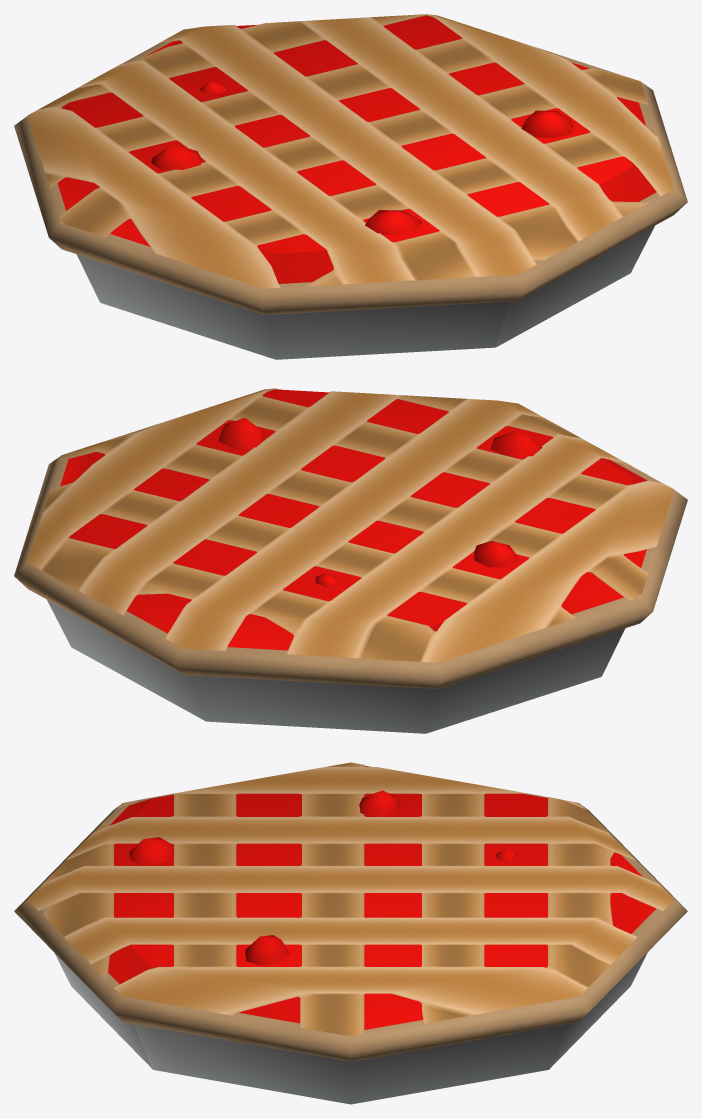
File: Pie_B_01.FBX
The picture shows the model from 3 angles, top to bottom: view 1: azimuth 30°, elevation 25°; view 2: azimuth 150°, elevation 25°; view 3: azimuth 270°, elevation 25°; orthographic projection. The views are drawn at different scales.
Visible parts, largest first — view 1: Pie_B; view 2: Pie_B; view 3: Pie_B.
Part boxes in pixels (x1,y1,x2,y2): Pie_B: [14, 14, 687, 359]; Pie_B: [14, 388, 687, 733]; Pie_B: [14, 762, 687, 1104].
Bounding box in the file's own units: 116 × 23.2 × 116.
